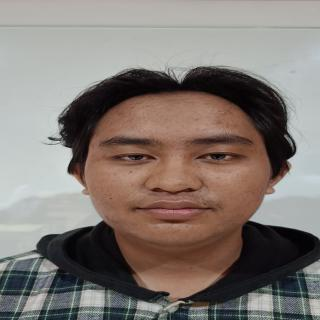Netral: (84, 88, 275, 250)
